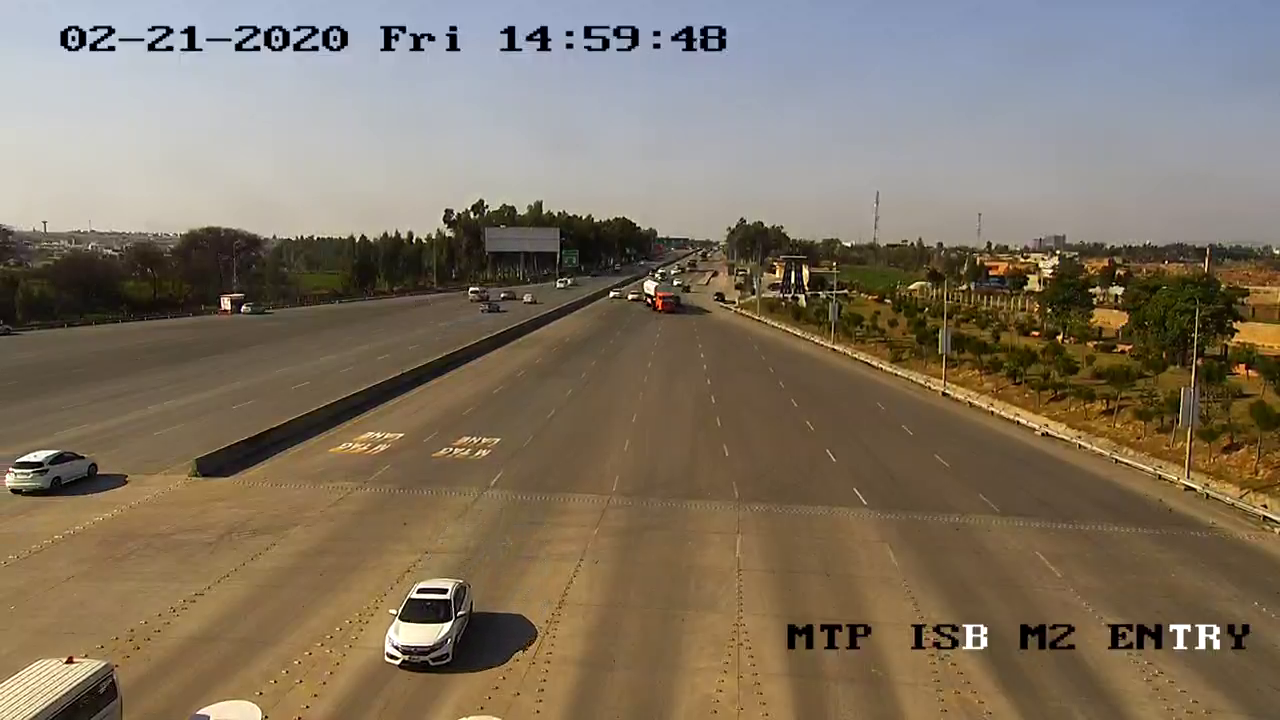f1: (371, 575, 483, 677)
